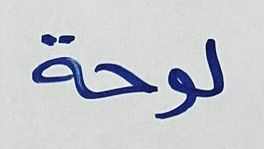hah: (90, 62, 159, 101)
lam: (199, 36, 229, 102)
teh_marbota: (27, 31, 88, 102)
waw: (160, 67, 198, 122)
